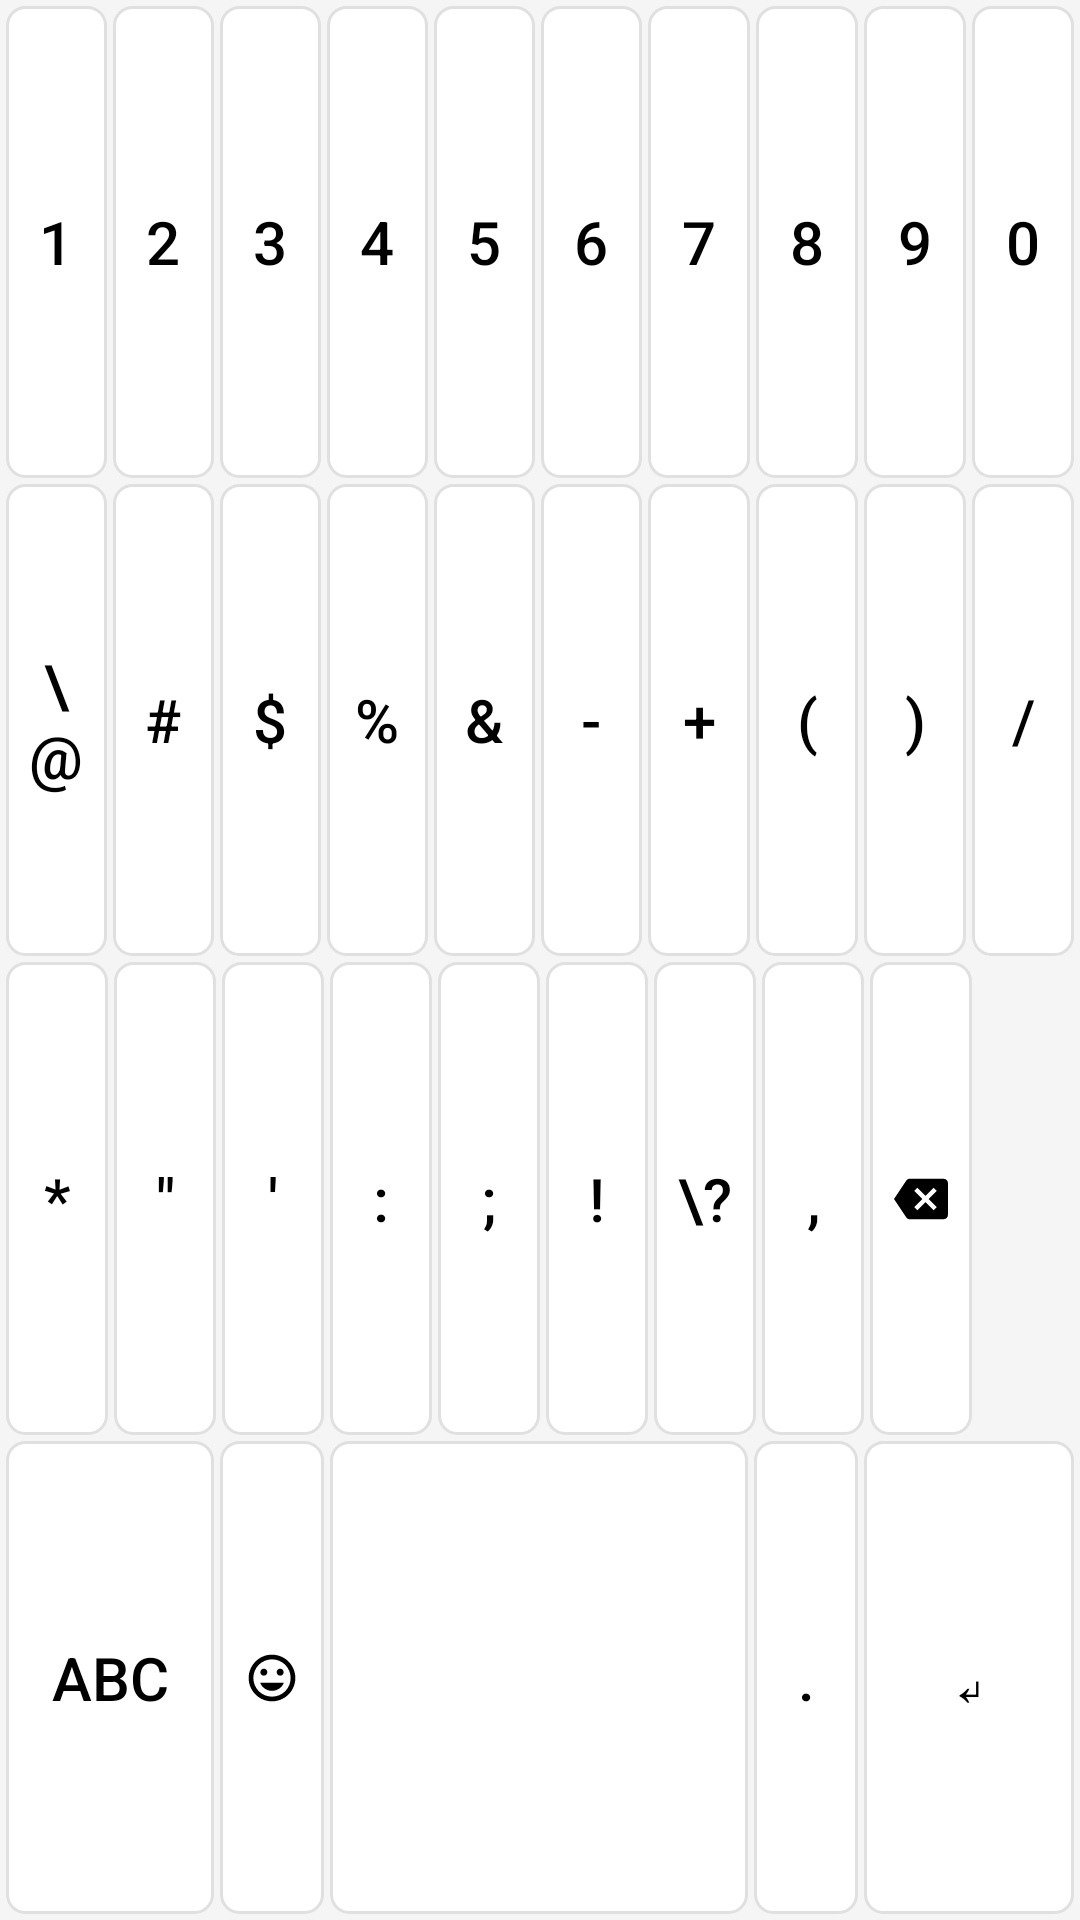

Icon bounding boxes for this 1080px×1920px phone screenshot, format (x1, y1, x2, y2):
backspace: (894, 1178, 948, 1220)
